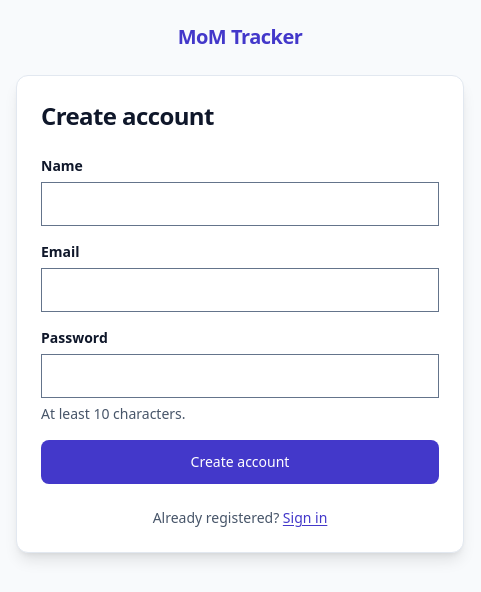
Test case: Register page › shows the server EMAIL_TAKEN error
In the field labelled "Name": (240, 204) [41, 182, 439, 226], type "Olivia"
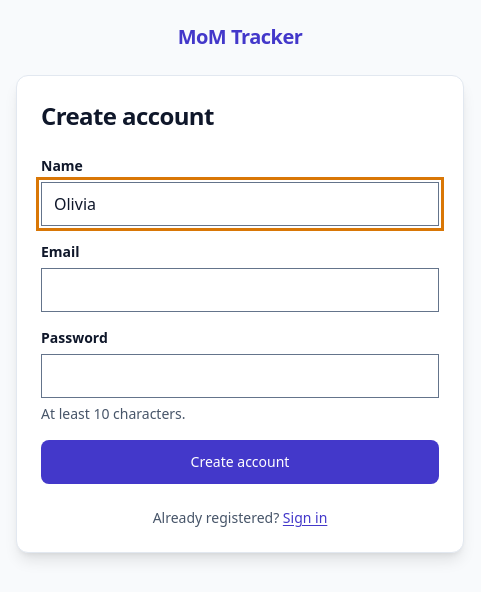
In the field labelled "Email": (240, 290) [41, 268, 439, 312], type "olivia@example.com"
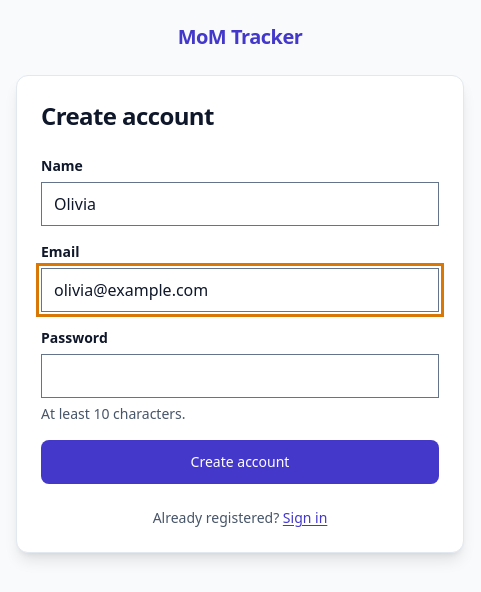
In the password field labelled "Password": (240, 376) [41, 354, 439, 398], type "Password123!"
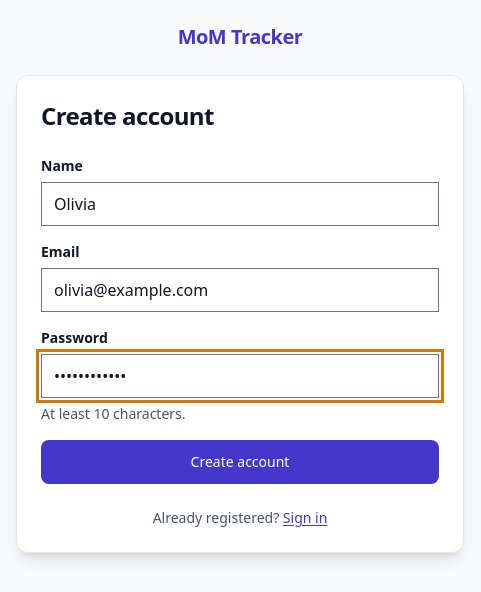
Click the button "Create account": (240, 462) [41, 440, 439, 484]
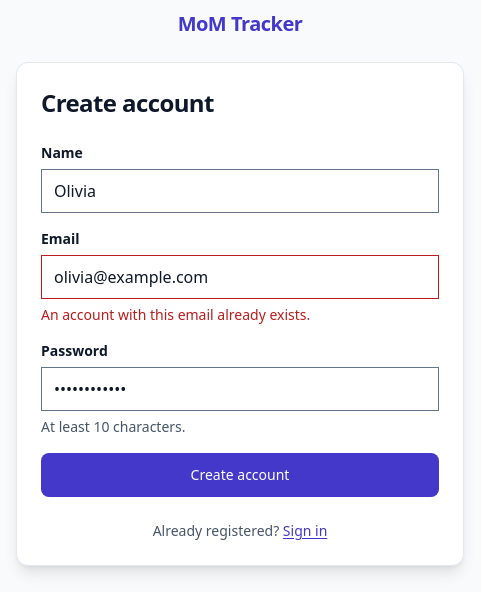
Now the text "An account with this email already exists." is shown, box [41, 305, 310, 324]
